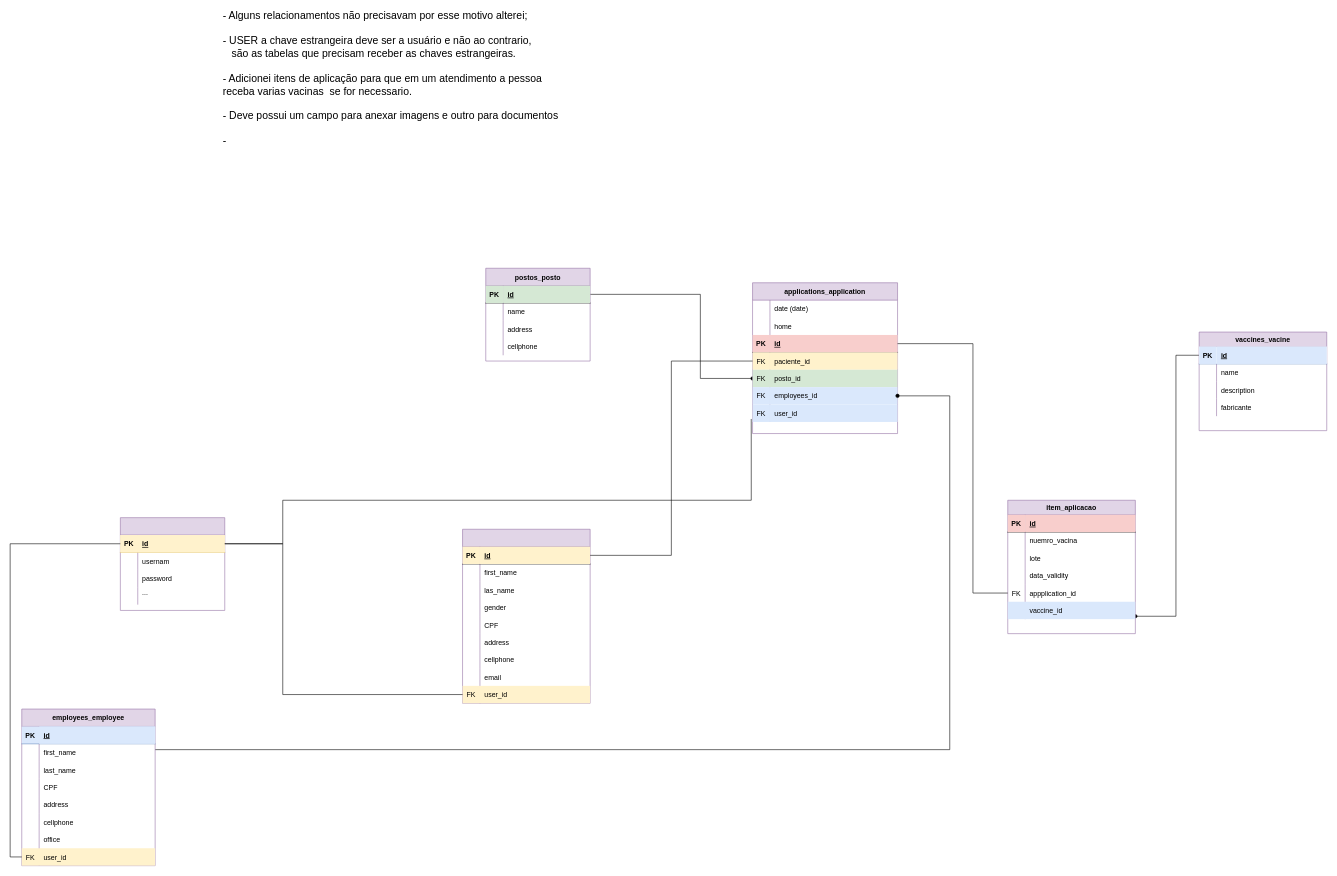
Image size: 1337x876. Some labels were removed from this diagram. The box of each missing label's shape, as (x1, y1, x2, y2) in pixels:
auth_user: (120, 517, 225, 610)
patients_patient: (462, 529, 590, 703)
